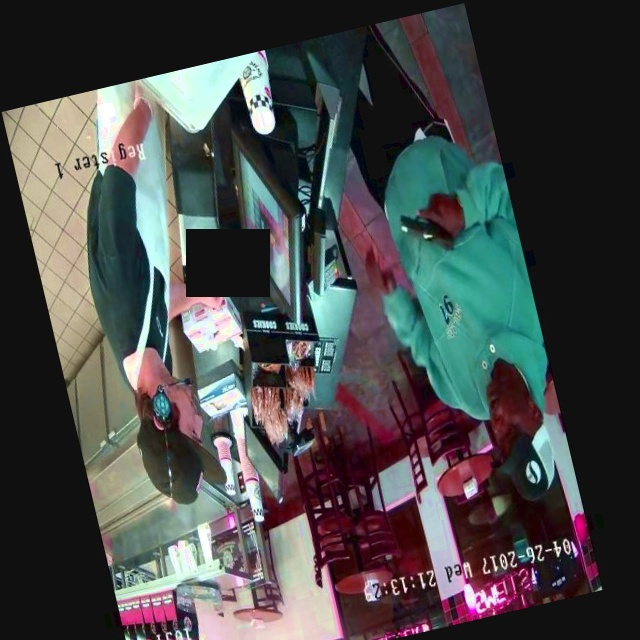gun: (380, 174, 475, 272)
